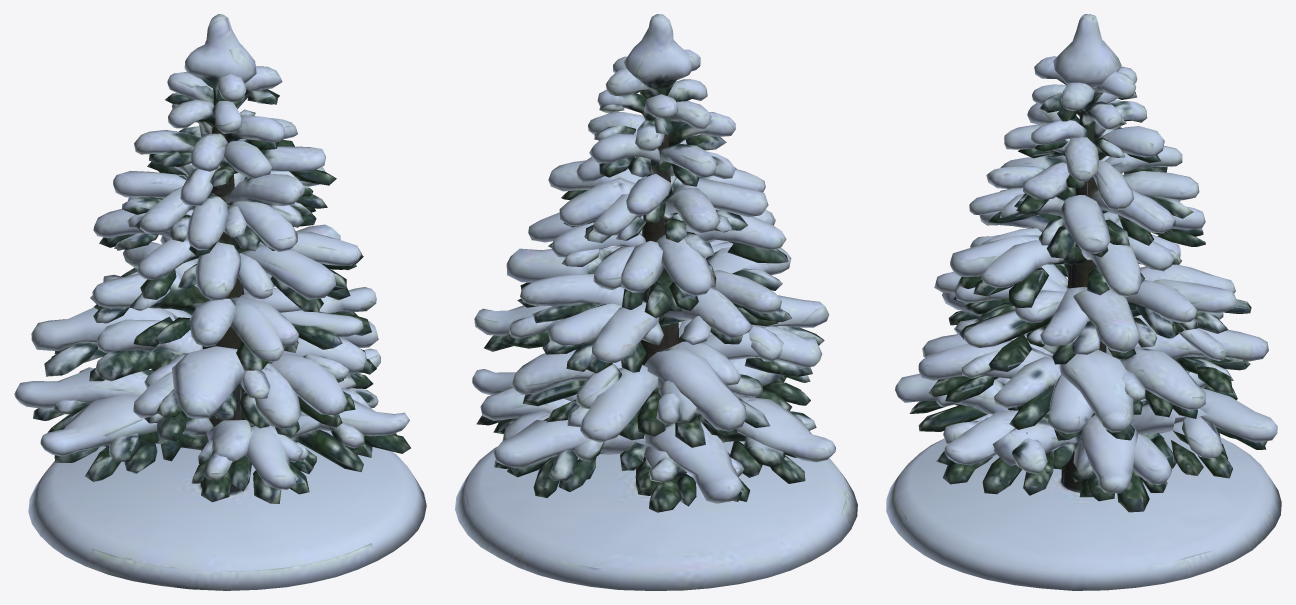
The model's file is p-pine.glb.
3 renders of one model, left to right at view 1: azimuth 30°, elevation 25°; view 2: azimuth 150°, elevation 25°; view 3: azimuth 270°, elevation 25°, orthographic.
Parts seen in each view (by area): view 1: Mesh_0; view 2: Mesh_0; view 3: Mesh_0.
Boxes of the visible parts, <box> form: Mesh_0: <box>14,14,426,590</box>; Mesh_0: <box>455,14,857,590</box>; Mesh_0: <box>886,14,1281,590</box>.
Bounding box in the file's own units: 0.7555 × 1 × 0.7341.
1 material, 1 textured.
